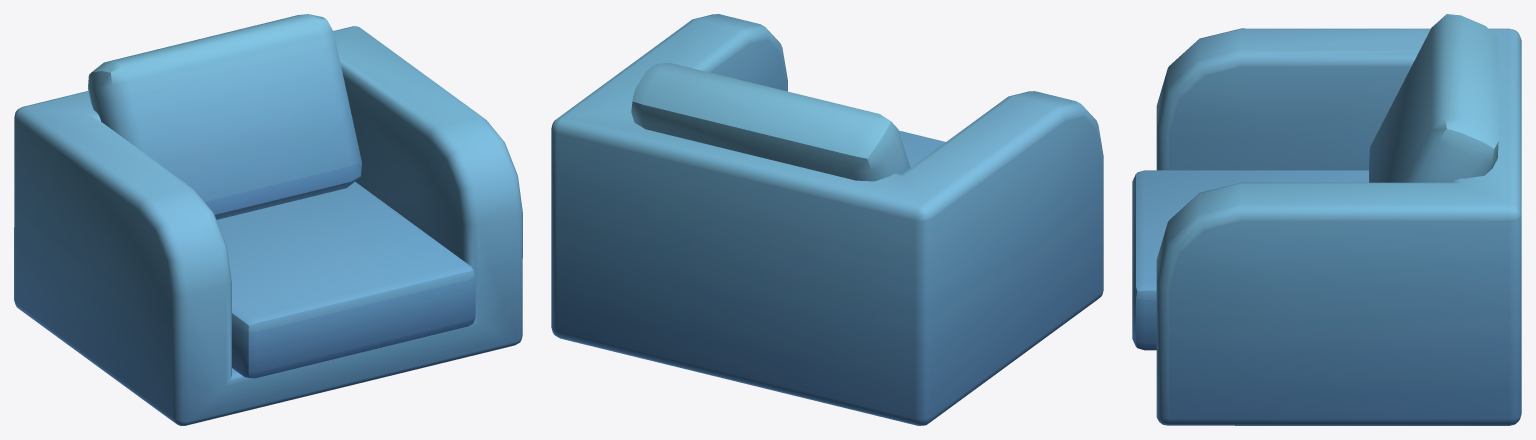
Rendered from armchair.glb.
3 renders of one model, left to right at view 1: azimuth 30°, elevation 25°; view 2: azimuth 150°, elevation 25°; view 3: azimuth 270°, elevation 25°, orthographic. The views are drawn at different scales.
Visible parts, largest first — view 1: armchair; view 2: armchair; view 3: armchair.
Part boxes in pixels (x1,y1,x2,y2): armchair: [14, 14, 522, 425]; armchair: [551, 14, 1103, 425]; armchair: [1132, 14, 1521, 425].
Bounding box in the file's own units: 1.8 × 1.22 × 1.6.
1 material, 1 textured.
